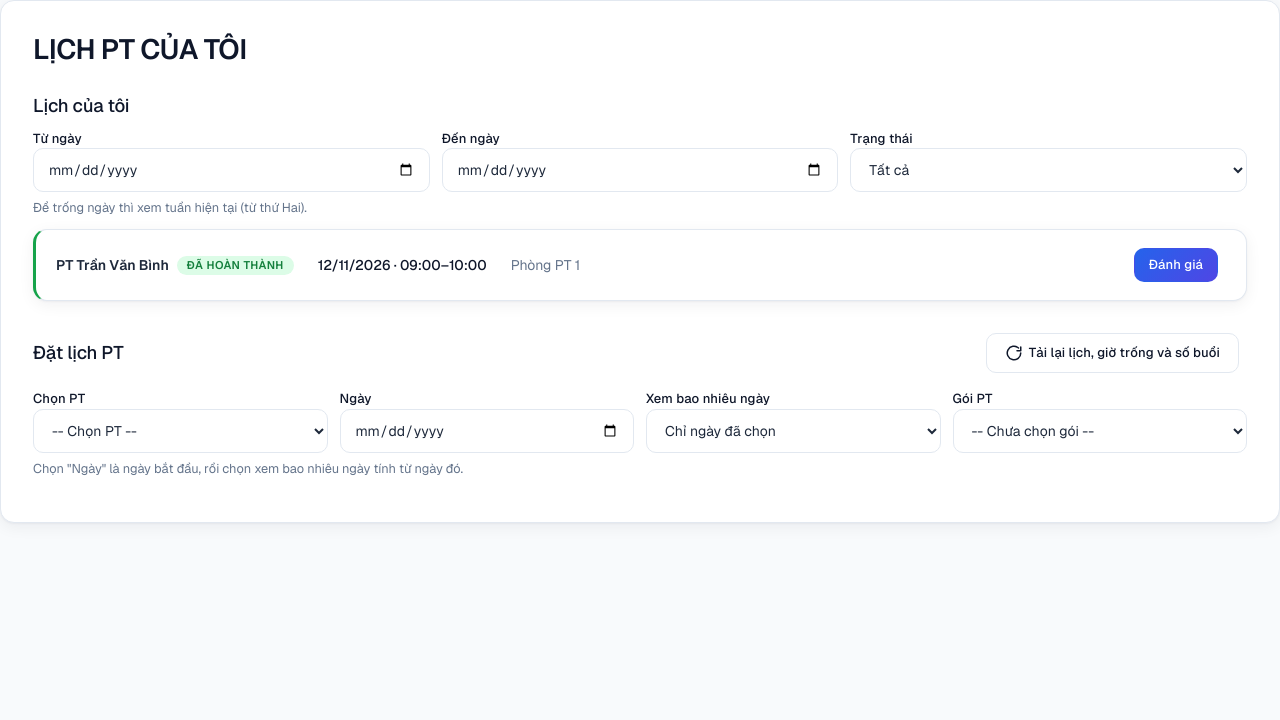
Scenario: US-65 bước 3: Member gửi và xem đánh giá buổi PT trên trang /member/pt-bookings › US-65-TC01: bấm "Đánh giá" mở form có tên PT, ngày buổi, 5 mức sao kèm nhãn và ô nhận xét; "Đóng" không gửi gì
The image size is (1280, 720).
Click the button "Đánh giá": (1176, 265) top-left (1134, 248), bottom-right (1218, 282)
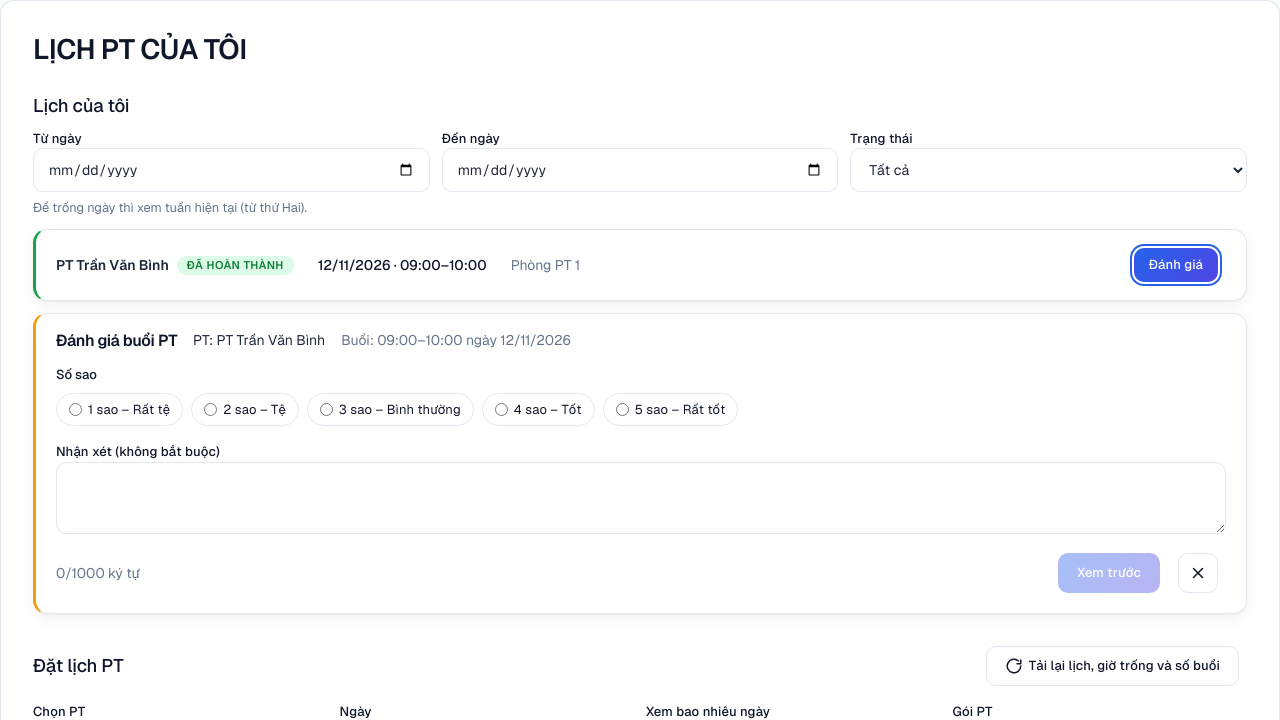
expect the text "PT: PT Trần Văn Bình" is shown: met, box top-left (193, 330), bottom-right (325, 351)
expect the text "Buổi: 09:00–10:00 ngày 12/11/2026" is shown: met, box top-left (341, 330), bottom-right (571, 351)
expect the number of radio buttons is 5: met, box top-left (69, 403), bottom-right (82, 416); top-left (204, 403), bottom-right (217, 416); top-left (320, 403), bottom-right (333, 416); top-left (495, 403), bottom-right (508, 416); top-left (616, 403), bottom-right (629, 416)
Click the button named "Đóng": (1198, 573) top-left (1178, 553), bottom-right (1218, 593)
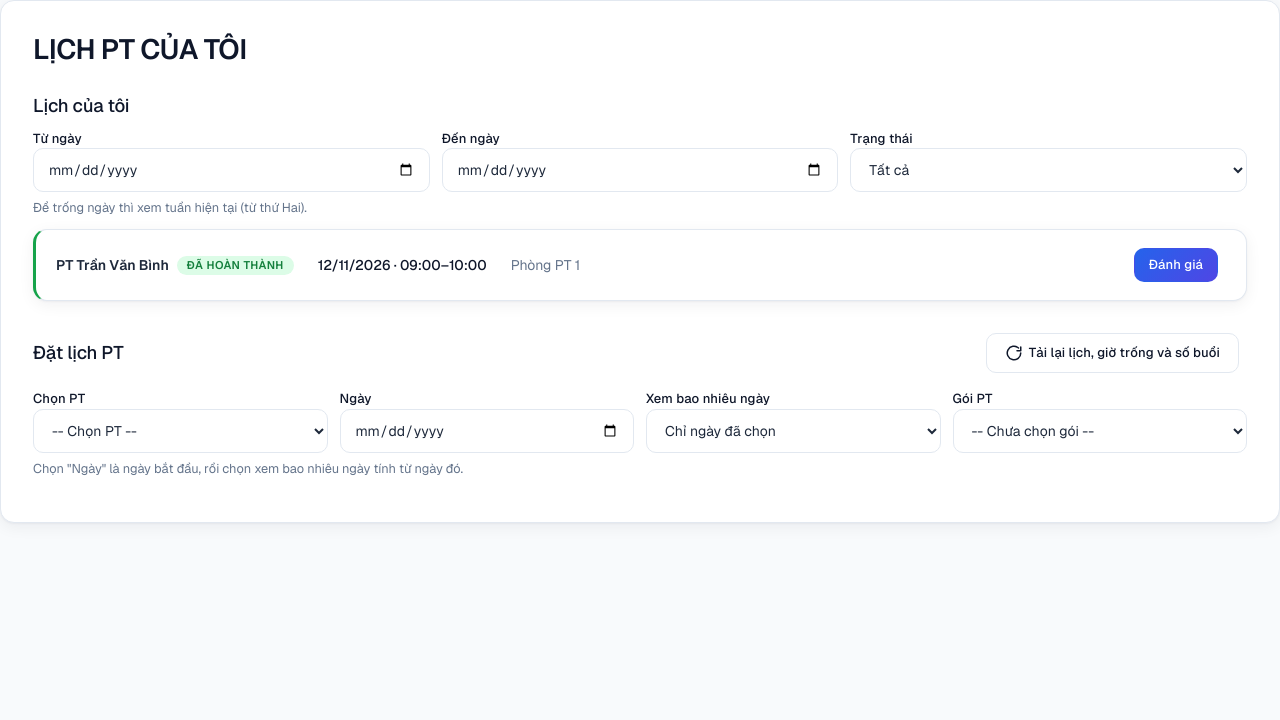
expect the heading "Đánh giá buổi PT" is gone: met
